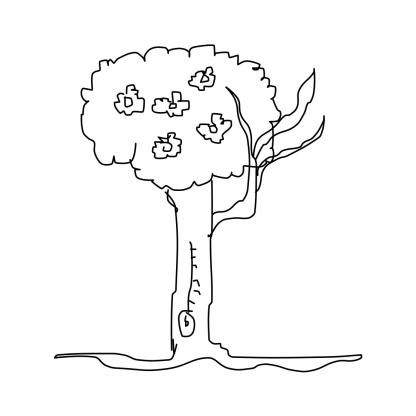crown_dizzy: (77, 43, 284, 188)
knot: (175, 308, 195, 339)
root_none: (140, 338, 258, 386)
trunk_bark: (167, 241, 214, 327)
